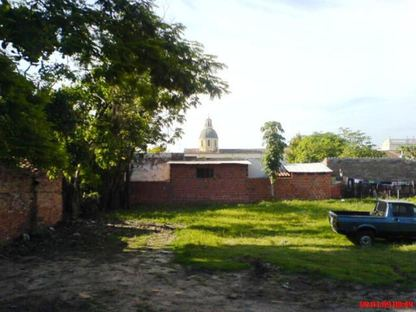truck: (334, 200, 413, 249)
